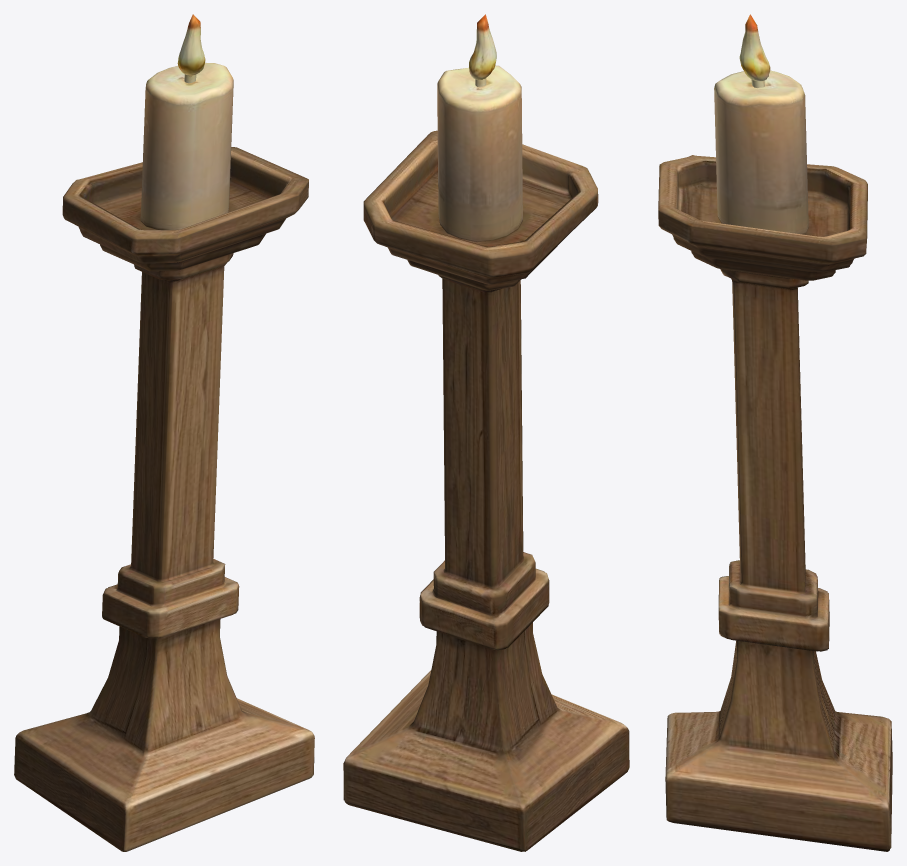
The model's file is act1-a11-6-candle-stand.glb.
3 renders of one model, left to right at view 1: azimuth 30°, elevation 25°; view 2: azimuth 150°, elevation 25°; view 3: azimuth 270°, elevation 25°, orthographic. The views are drawn at different scales.
Visible parts, largest first — view 1: act1-a11-6-candle-stand; view 2: act1-a11-6-candle-stand; view 3: act1-a11-6-candle-stand.
Part boxes in pixels (left/top/right/bottom): act1-a11-6-candle-stand: left=14, top=14, right=314, bottom=851; act1-a11-6-candle-stand: left=343, top=14, right=629, bottom=851; act1-a11-6-candle-stand: left=658, top=14, right=892, bottom=851.
Size of the model in its own units: 0.6111 by 2.34 by 0.6174.
1 material, 1 textured.
